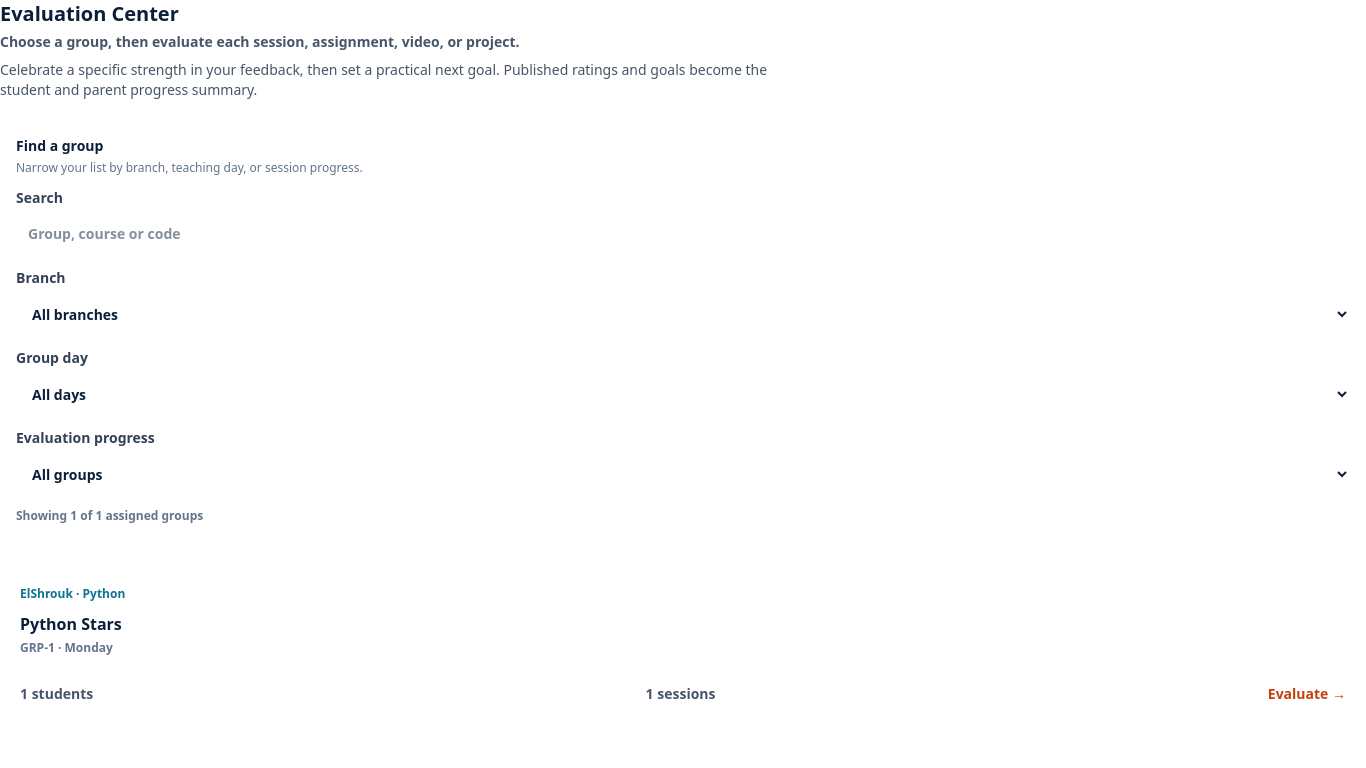
Test case: Evaluation Center › awards a selected recognition badge to the current student
Click the button "Python Stars" at (683, 642), box [0,560,1365,724]
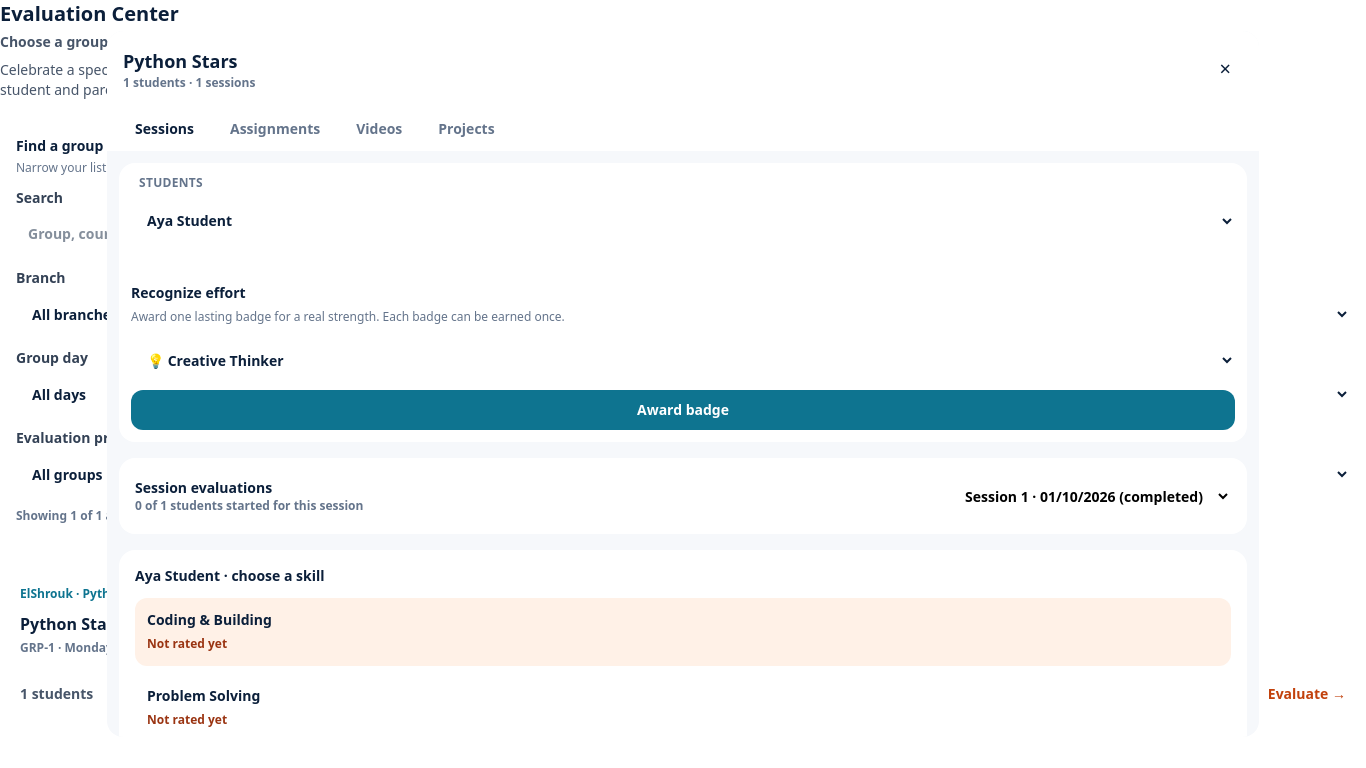
Now the dialog named "Python Stars evaluations" is shown
Select "🤝 Team Player" in the dropdown named "Recognition badge" at (683, 360), box [131,338,1235,382]
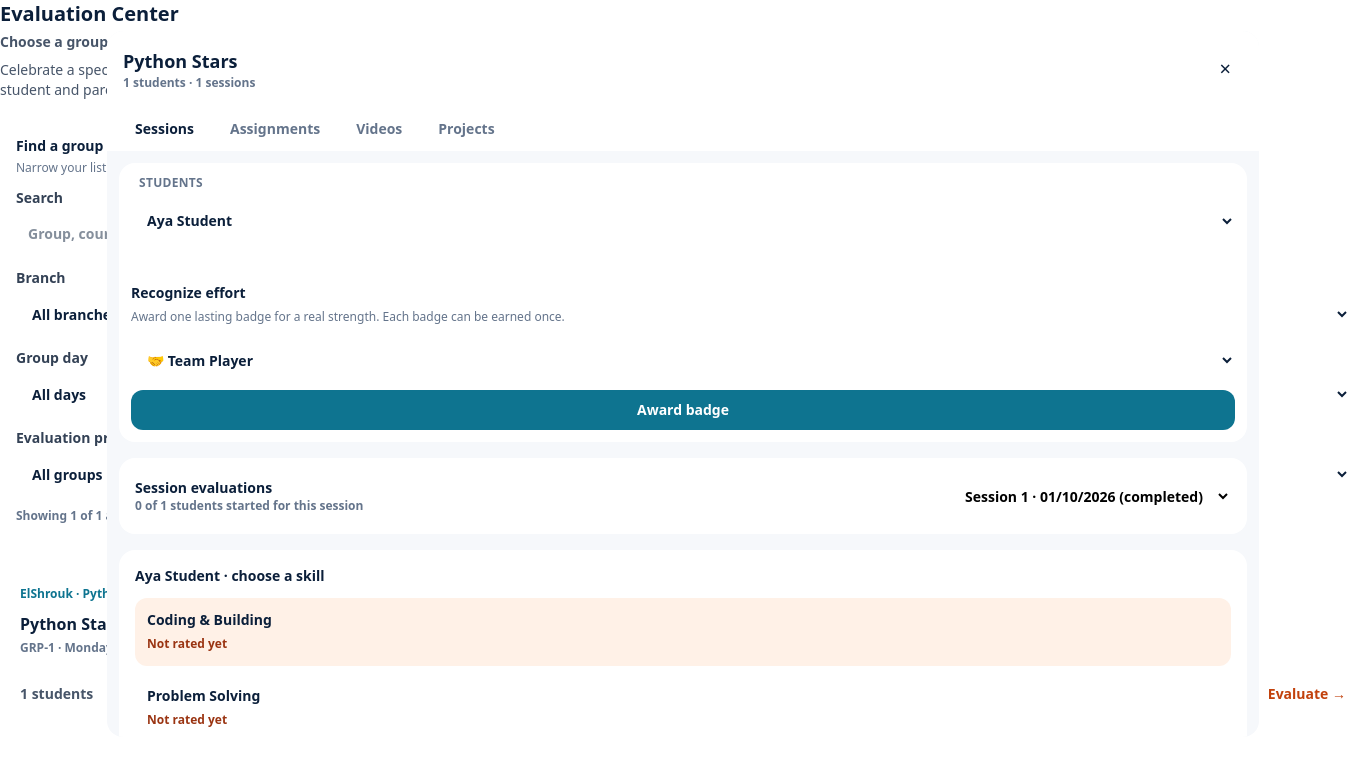
Click the button "Award badge" at (683, 410), box [131,390,1235,430]
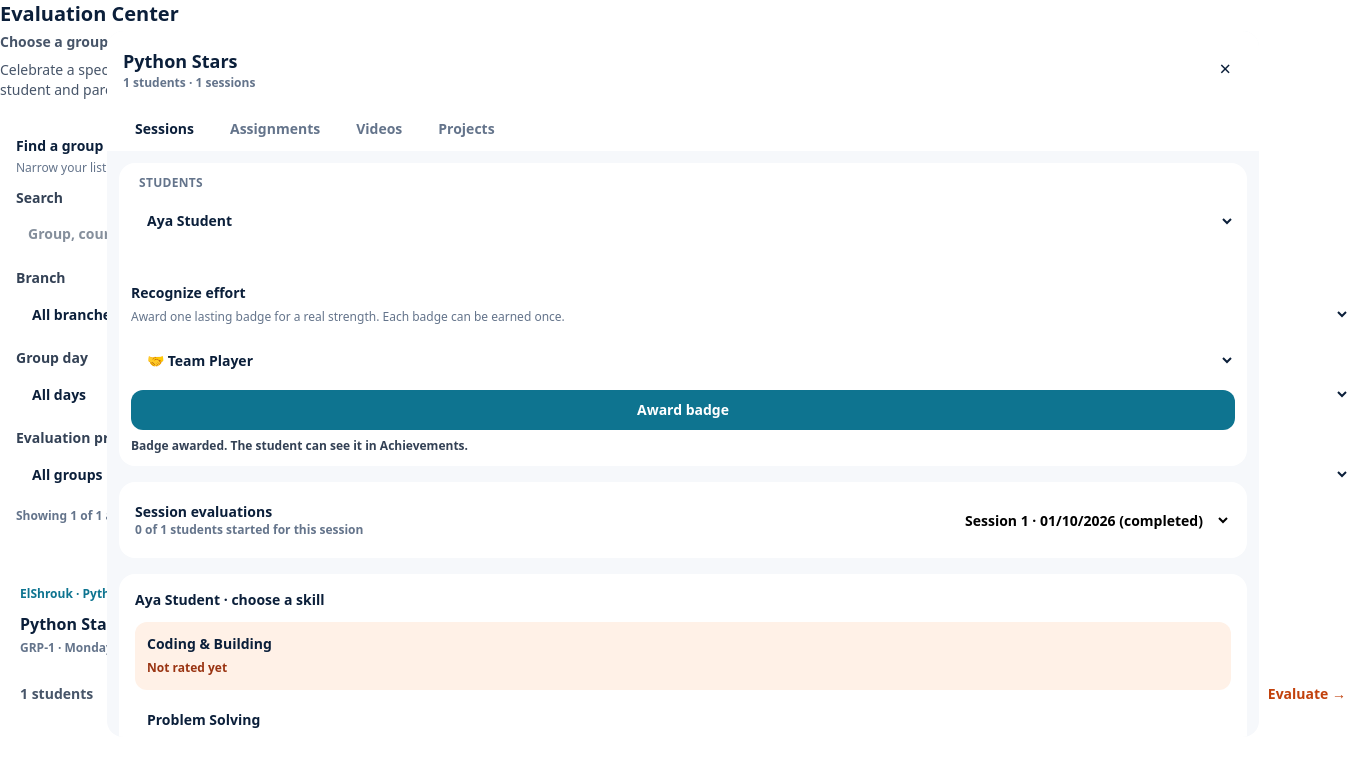
Now the text "Badge awarded. The student can see it in Achievements." is shown, box [131,437,468,454]
